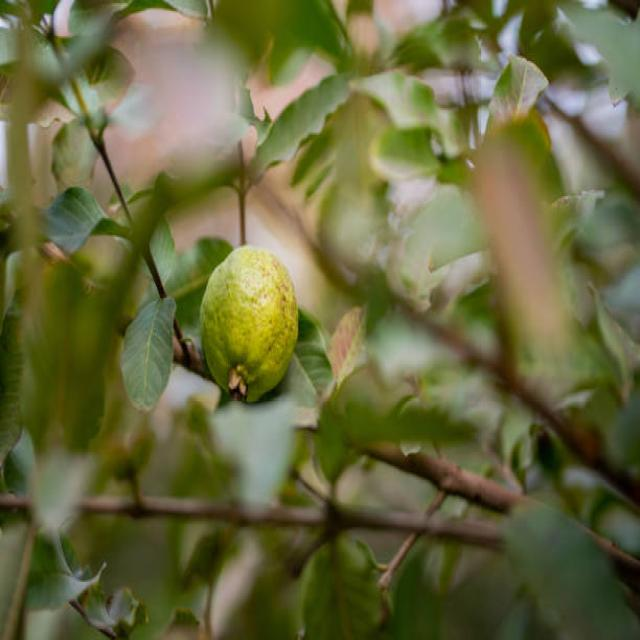Unripe: (201, 246, 298, 405)
